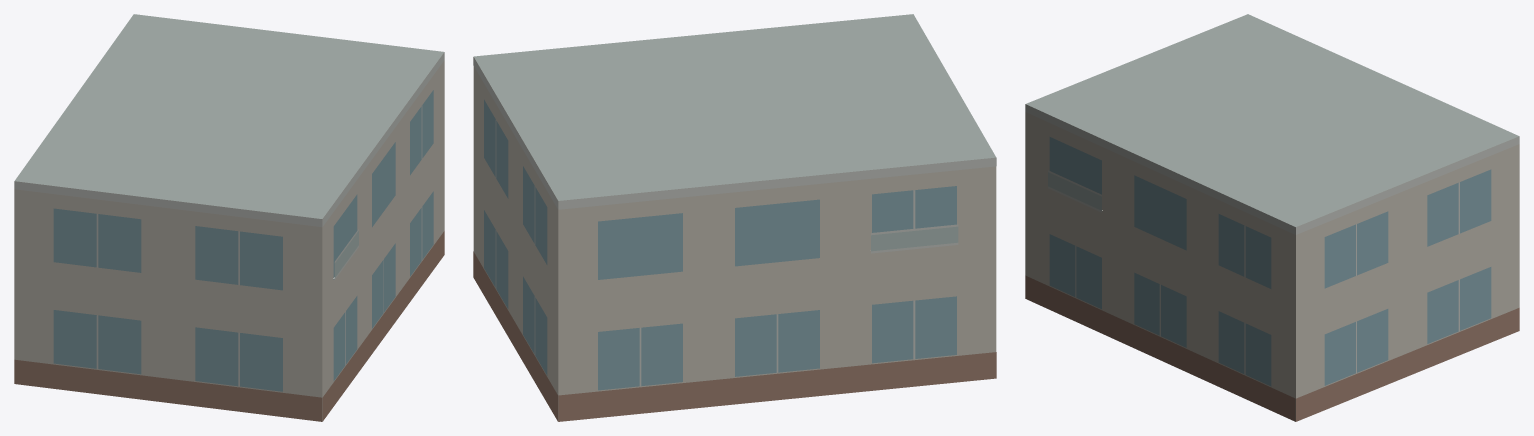
Rendered from survey-upis-32718893.glb.
3 renders of one model, left to right at view 1: azimuth 30°, elevation 25°; view 2: azimuth 150°, elevation 25°; view 3: azimuth 270°, elevation 25°, orthographic. The views are drawn at different scales.
Visible parts, largest first — view 1: survey-upis-32718893.tmp; view 2: survey-upis-32718893.tmp; view 3: survey-upis-32718893.tmp.
Part boxes in pixels (x1=…): survey-upis-32718893.tmp: x1=14, y1=14, x2=444, y2=421; survey-upis-32718893.tmp: x1=473, y1=14, x2=996, y2=421; survey-upis-32718893.tmp: x1=1025, y1=14, x2=1519, y2=421.
Size of the model in its own units: 14.34 by 6.1 by 14.04.
